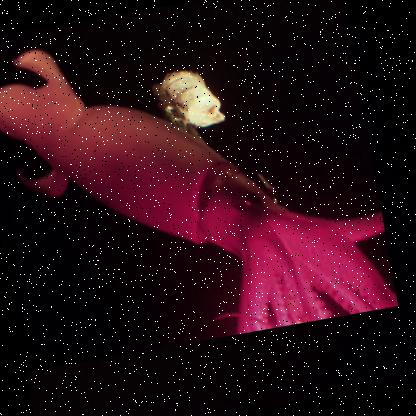colossal_squid: (0, 0, 399, 372)
